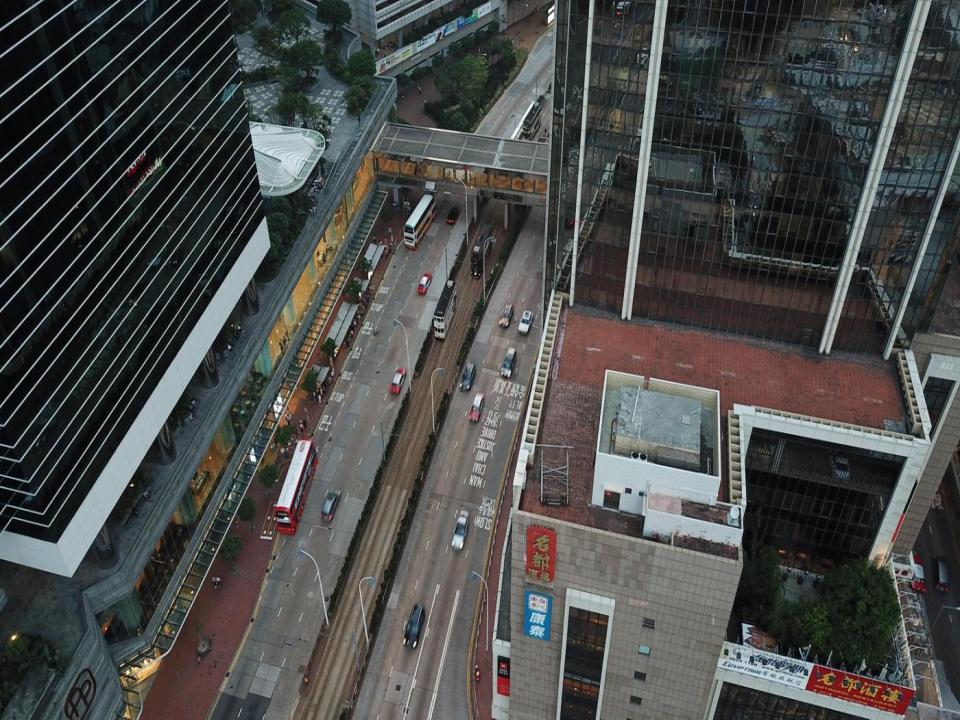bus: (275, 439, 317, 536), (403, 193, 438, 252), (433, 278, 458, 341), (470, 220, 496, 278), (521, 102, 543, 142)
car: (904, 545, 926, 593), (932, 551, 950, 596), (450, 511, 470, 551), (322, 485, 340, 526), (458, 362, 477, 392), (470, 391, 485, 427), (388, 368, 406, 396), (498, 302, 514, 326), (518, 310, 534, 334), (446, 203, 460, 227), (416, 274, 432, 294)
van: (400, 603, 426, 651), (500, 346, 516, 378)
